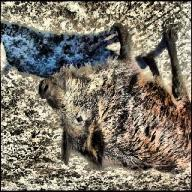boar: (38, 25, 191, 177)
